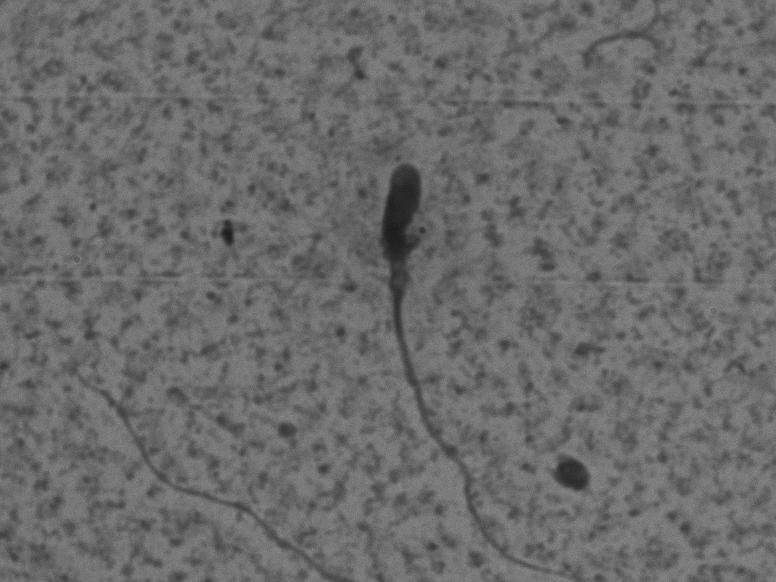Abnormal: (330, 125, 542, 574)
